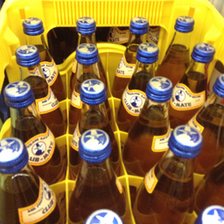soda: (136, 124, 202, 224), (4, 80, 63, 180), (69, 128, 127, 224), (125, 75, 172, 175), (14, 46, 64, 133), (169, 43, 213, 125)
